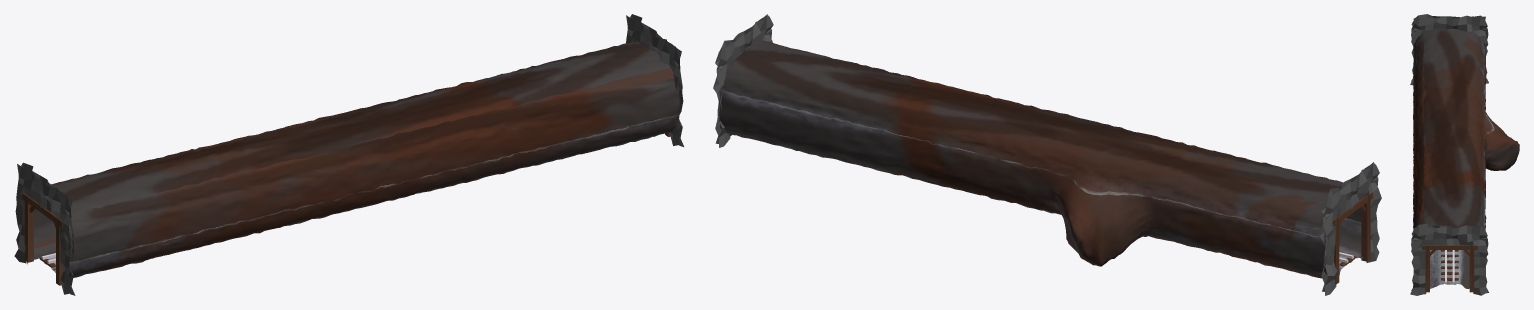
The model's file is track_03.fbx.
The picture shows the model from 3 angles, left to right: view 1: azimuth 30°, elevation 25°; view 2: azimuth 150°, elevation 25°; view 3: azimuth 270°, elevation 25°; orthographic projection. The views are drawn at different scales.
Parts seen in each view (by area): view 1: Tunnel, WallBack, WallBack.001, Gate, Wall.001, Wall; view 2: Tunnel, WallBack, WallBack.001, Gate, Wall, Wall.001; view 3: Tunnel, Wall.001, Wall, GateExit, WallBack.001, Plank, WallBack, Track.
Part boxes in pixels (<box>): Tunnel: <box>31,42,679,277</box>; WallBack: <box>14,164,70,294</box>; WallBack.001: <box>626,15,679,145</box>; Gate: <box>22,193,62,285</box>; Wall.001: <box>628,14,683,146</box>; Wall: <box>19,162,75,295</box>; Tunnel: <box>719,40,1363,278</box>; WallBack: <box>1323,162,1381,295</box>; WallBack.001: <box>716,14,773,147</box>; Gate: <box>1333,192,1372,284</box>; Wall: <box>1319,162,1378,291</box>; Wall.001: <box>713,14,771,143</box>; Tunnel: <box>1413,29,1519,288</box>; Wall.001: <box>1410,225,1488,295</box>; Wall: <box>1410,15,1488,85</box>; GateExit: <box>1422,244,1477,292</box>; WallBack.001: <box>1411,223,1488,294</box>; Plank: <box>1441,250,1458,280</box>; WallBack: <box>1411,14,1488,83</box>; Track: <box>1445,250,1454,283</box>.
Bounding box in the file's own units: 5088 × 848 × 1106.
